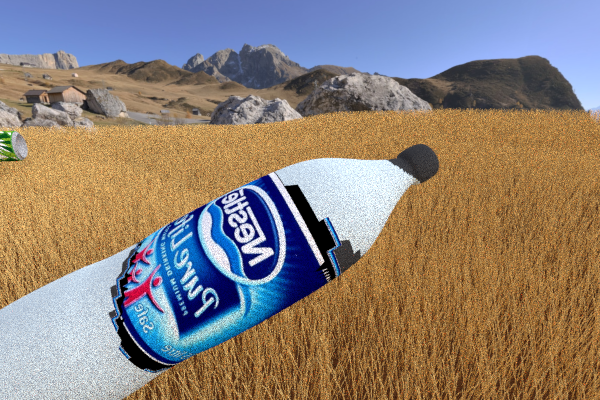Plastic Bottle: (0, 143, 439, 400), (0, 130, 27, 164)
